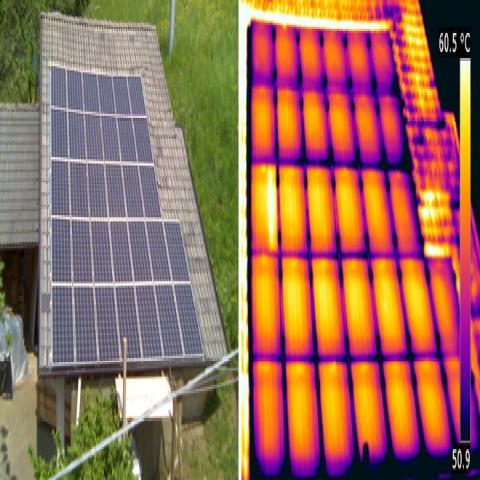fault: (268, 166, 276, 248)
